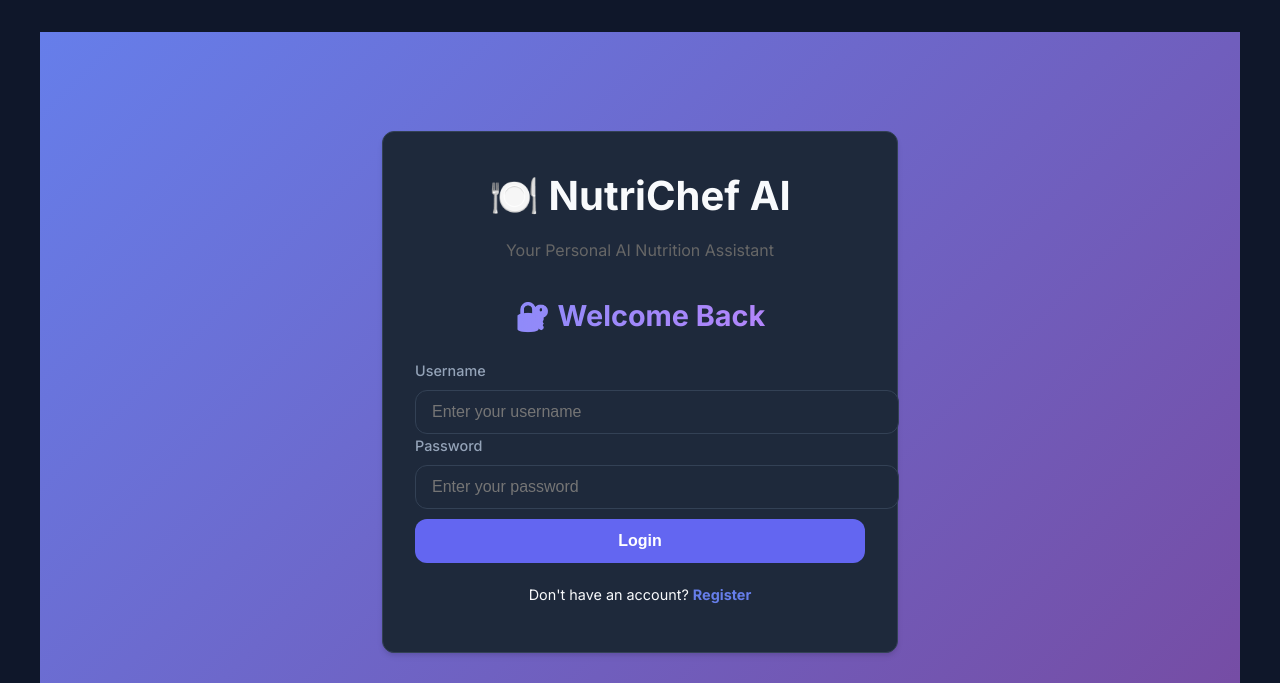
Scenario: LoginComponent › switches to registration mode
# Find toggle button (span with "Register" text)
Click the text "Register": (722, 594) [693,586,751,603]
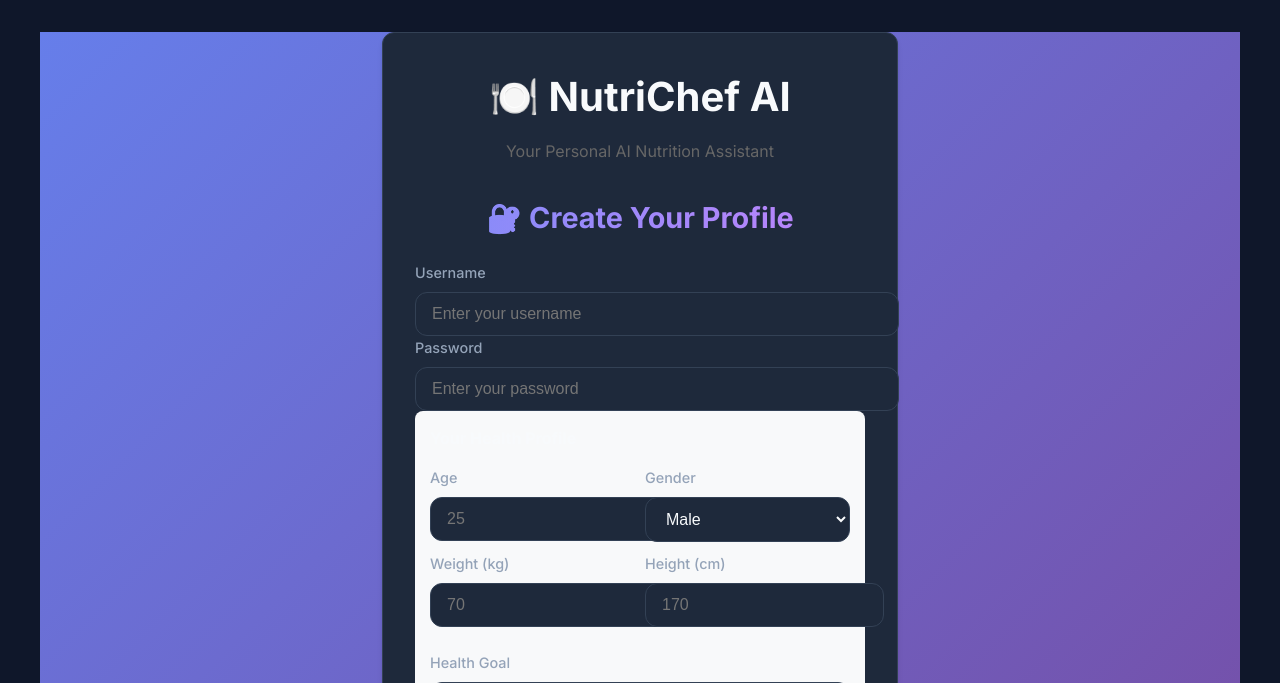
Result: the number field with placeholder "25" is shown at [430,497,669,541]
